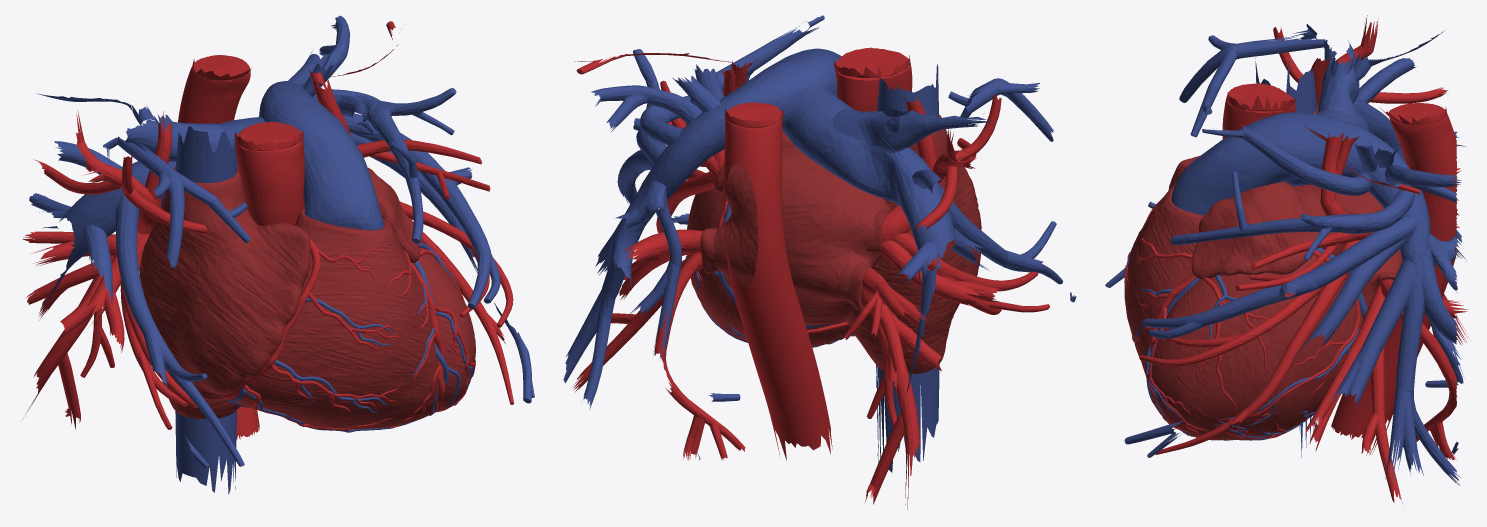
3 views of the same model, side by side, from view 1: azimuth 30°, elevation 25°; view 2: azimuth 150°, elevation 25°; view 3: azimuth 270°, elevation 25° (orthographic). The views are drawn at different scales.
Visible parts, largest first — view 1: heart_wall, pulmonary_artery, pulmonary_veins, ascending_aorta, descending_aorta, inferior_vena_cava, superior_vena_cava, rca_marginal, lca_anterior, anterior_cardiac_veins, great_cardiac_vein, rca_trunk (+1 smaller); view 2: pulmonary_artery, heart_wall, pulmonary_veins, descending_aorta, ascending_aorta, inferior_vena_cava, superior_vena_cava, arch_of_aorta; view 3: pulmonary_artery, heart_wall, pulmonary_veins, descending_aorta, lca_anterior, ascending_aorta, great_cardiac_vein, superior_vena_cava, lca_circumflex, arch_of_aorta, posterior_lv_veins.
Boxes of the visible parts, x1,y1,x2,y2 form: heart_wall: [139, 165, 475, 429]; pulmonary_artery: [29, 15, 534, 468]; pulmonary_veins: [22, 21, 513, 429]; ascending_aorta: [235, 121, 304, 225]; descending_aorta: [178, 55, 259, 439]; inferior_vena_cava: [175, 410, 236, 494]; superior_vena_cava: [175, 126, 236, 182]; rca_marginal: [243, 248, 411, 430]; lca_anterior: [387, 247, 475, 422]; anterior_cardiac_veins: [228, 297, 418, 432]; great_cardiac_vein: [411, 242, 473, 413]; rca_trunk: [221, 239, 320, 399]; pulmonary_artery: [563, 15, 1076, 460]; heart_wall: [687, 114, 981, 374]; pulmonary_veins: [571, 53, 1049, 509]; descending_aorta: [723, 102, 832, 460]; ascending_aorta: [835, 47, 912, 111]; inferior_vena_cava: [876, 364, 939, 472]; superior_vena_cava: [877, 64, 938, 126]; arch_of_aorta: [724, 55, 910, 128]; pulmonary_artery: [1105, 24, 1467, 486]; heart_wall: [1124, 104, 1402, 440]; pulmonary_veins: [1139, 15, 1468, 503]; descending_aorta: [1331, 103, 1457, 455]; lca_anterior: [1134, 238, 1273, 436]; ascending_aorta: [1222, 83, 1303, 187]; great_cardiac_vein: [1134, 247, 1367, 420]; superior_vena_cava: [1255, 58, 1316, 113]; lca_circumflex: [1214, 250, 1360, 425]; arch_of_aorta: [1227, 92, 1446, 125]; posterior_lv_veins: [1210, 328, 1359, 440].
Size of the model in its own units: 164 by 168 by 140.
